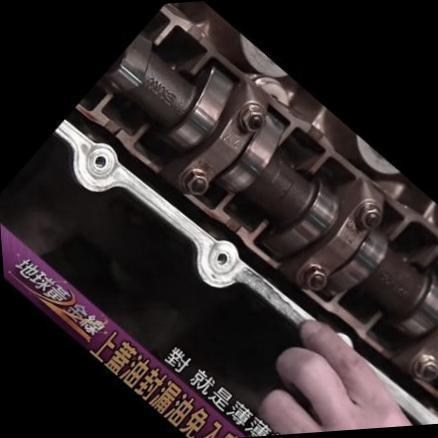hole: (88, 150, 112, 174), (211, 247, 231, 268)
